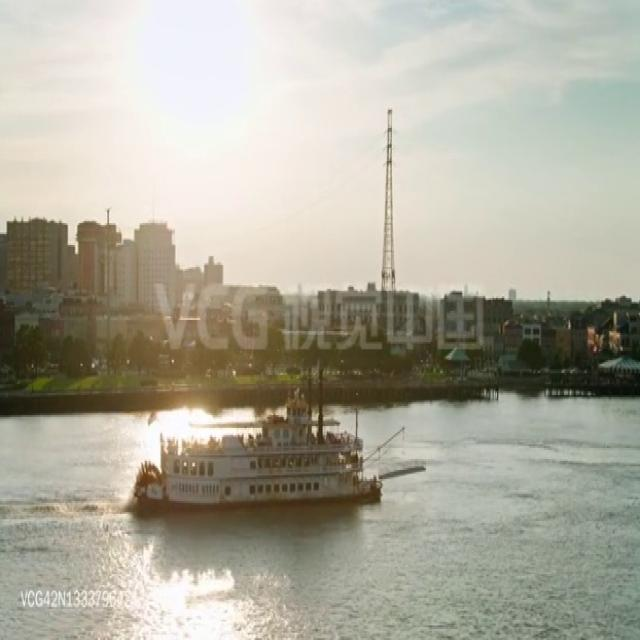passenger ship: (131, 395, 389, 505)
